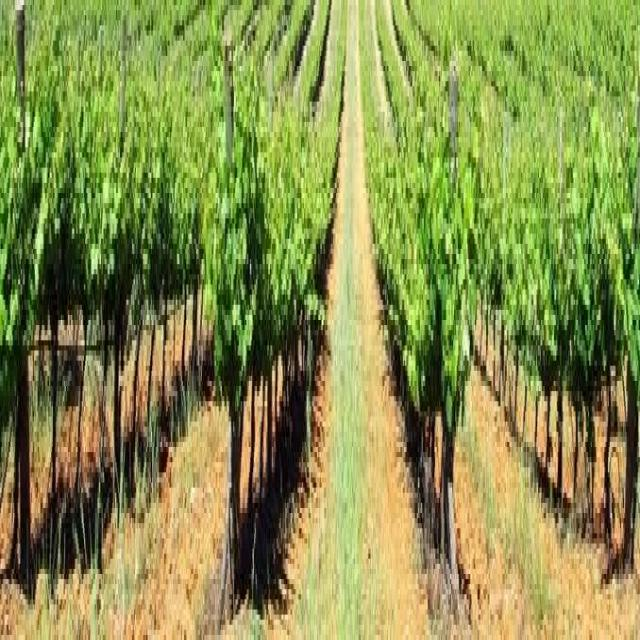row: (254, 12, 432, 640), (24, 381, 287, 639), (437, 364, 627, 605)
